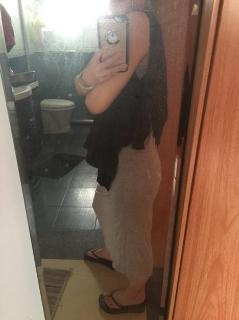vest: (93, 11, 162, 280)
vest dress: (83, 8, 171, 191)
